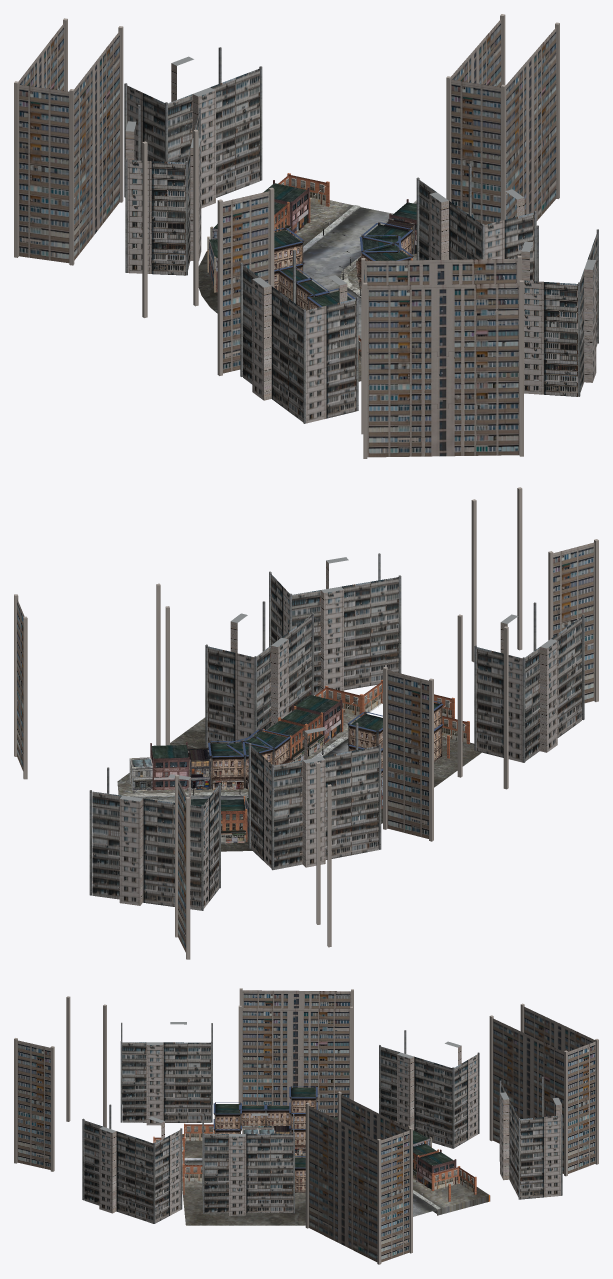
The model's file is street.glb.
3 views of the same model, one above another, from view 1: azimuth 30°, elevation 25°; view 2: azimuth 150°, elevation 25°; view 3: azimuth 270°, elevation 25° (orthographic). The views are drawn at different scales.
Parts seen in each view (by area): view 1: Plane_030, Plane_029, Plane_028, Cube_016, Cube_013, Cube_019, Plane_027, Cube_012, Cube_014, Plane, Plane_006, Cube_005 (+7 smaller); view 2: Cube_012, Cube_013, Cube_016, Cube_019, Plane_027, Cube_014, Plane_030, Plane_029, Plane_028, Plane_026, Cube_008, Plane_007 (+11 smaller); view 3: Plane_028, Plane_027, Plane_029, Cube_019, Cube_012, Cube_016, Cube_014, Plane_030, Cube_013, Plane_007, Plane_006, Cube_005 (+8 smaller).
Boxes of the visible parts, x1=… form: Plane_030: x1=361, y1=255, x2=523, y2=458; Plane_029: x1=14, y1=18, x2=123, y2=265; Plane_028: x1=446, y1=14, x2=559, y2=224; Cube_016: x1=240, y1=250, x2=358, y2=423; Cube_013: x1=124, y1=47, x2=262, y2=208; Cube_019: x1=521, y1=225, x2=598, y2=396; Plane_027: x1=142, y1=129, x2=274, y2=375; Cube_012: x1=125, y1=105, x2=201, y2=275; Cube_014: x1=416, y1=164, x2=536, y2=281; Plane: x1=303, y1=207, x2=393, y2=338; Plane_006: x1=198, y1=200, x2=361, y2=381; Cube_005: x1=263, y1=180, x2=309, y2=235; Cube_012: x1=248, y1=722, x2=381, y2=870; Cube_013: x1=89, y1=767, x2=220, y2=910; Cube_016: x1=474, y1=602, x2=584, y2=762; Cube_019: x1=269, y1=553, x2=401, y2=695; Plane_027: x1=383, y1=614, x2=508, y2=841; Cube_014: x1=205, y1=601, x2=313, y2=747; Plane_030: x1=471, y1=487, x2=598, y2=703; Plane_029: x1=175, y1=762, x2=331, y2=959; Plane_028: x1=14, y1=583, x2=169, y2=779; Plane_026: x1=208, y1=740, x2=246, y2=790; Cube_008: x1=150, y1=742, x2=189, y2=790; Plane_007: x1=117, y1=712, x2=360, y2=793; Plane_028: x1=305, y1=1091, x2=412, y2=1264; Plane_027: x1=238, y1=988, x2=353, y2=1131; Plane_029: x1=489, y1=1003, x2=598, y2=1176; Cube_019: x1=82, y1=1104, x2=182, y2=1223; Cube_012: x1=379, y1=1030, x2=479, y2=1148; Cube_016: x1=120, y1=1022, x2=212, y2=1125; Cube_014: x1=202, y1=1113, x2=294, y2=1215; Plane_030: x1=14, y1=996, x2=106, y2=1171; Cube_013: x1=499, y1=1077, x2=562, y2=1199; Plane_007: x1=182, y1=1179, x2=305, y2=1225; Plane_006: x1=182, y1=1134, x2=490, y2=1215; Cube_005: x1=417, y1=1149, x2=456, y2=1189.
Bounding box in the file's own units: 33.1 × 14.18 × 52.9.
12 materials, 11 textured.
